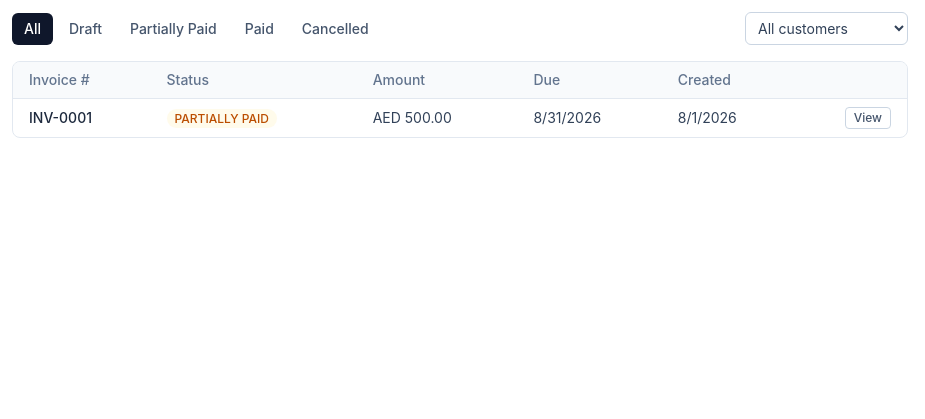
Test: InvoicesPage - detail panel › opens the detail panel with payment history and a Record Payment button when a row is selected
Expected: the text "INV-0001" is shown, [29,109,92,126]
Click the button "View". click: [868, 118]
box: [845,107,891,129]
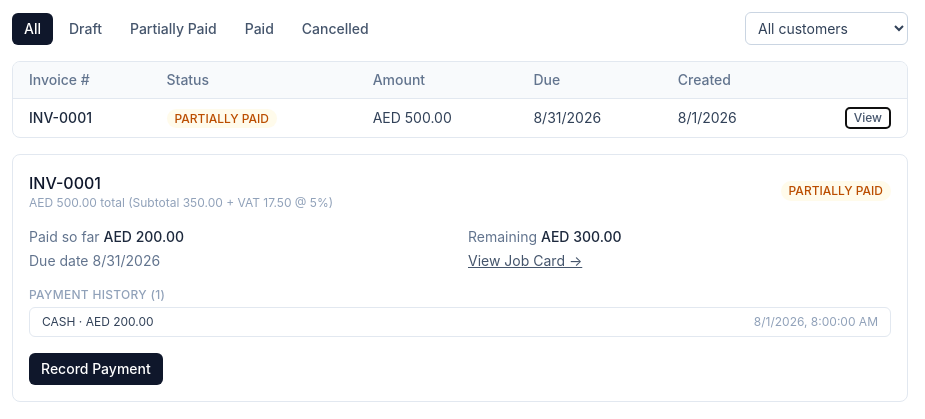
Expected: the text "Paid so far AED 200.00" is shown, [29,228,184,245]
Expected: the text "Remaining AED 300.00" is shown, [468,228,622,245]
Expected: the button "Record Payment" is shown, [29,353,163,385]
